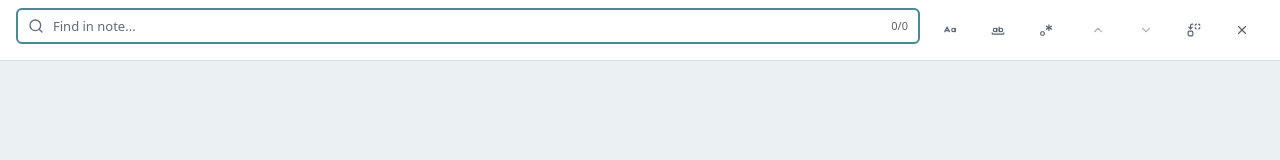
Test: FindReplaceBar › explains invalid regular expressions and disables replacement
Step 1. Click the button named "regular expression" → click(1046, 30), box [1024,8,1068,52]
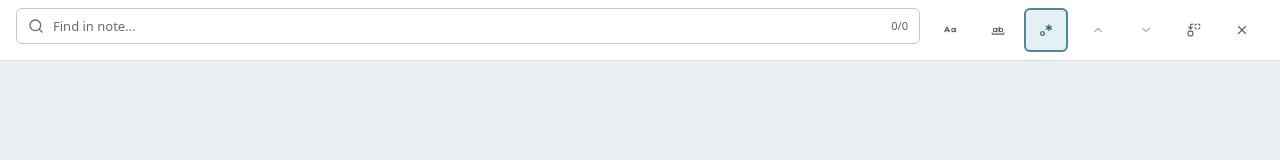
Step 2. Type "(" into the field labelled "Find in note..." → (468, 26), box [16,8,920,44]
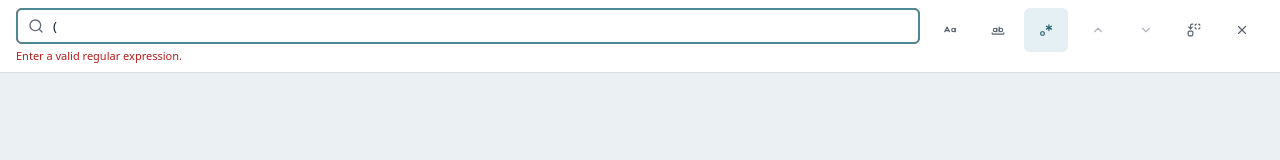
Expected: the message reads "Enter a valid regular expression.", [16,48,182,63]
Step 3. Click the button named "toggle replace" → click(1194, 30), box [1172,8,1216,52]
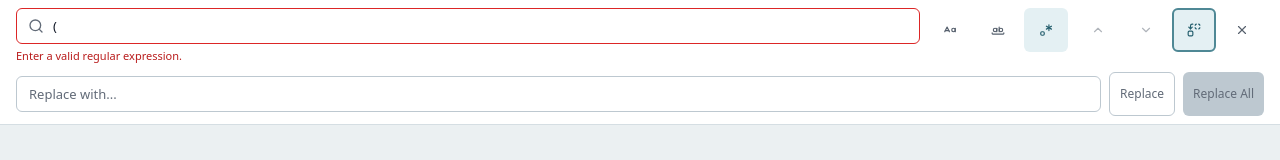
Expected: the button "Replace All" is disabled, [1183,72,1264,116]
